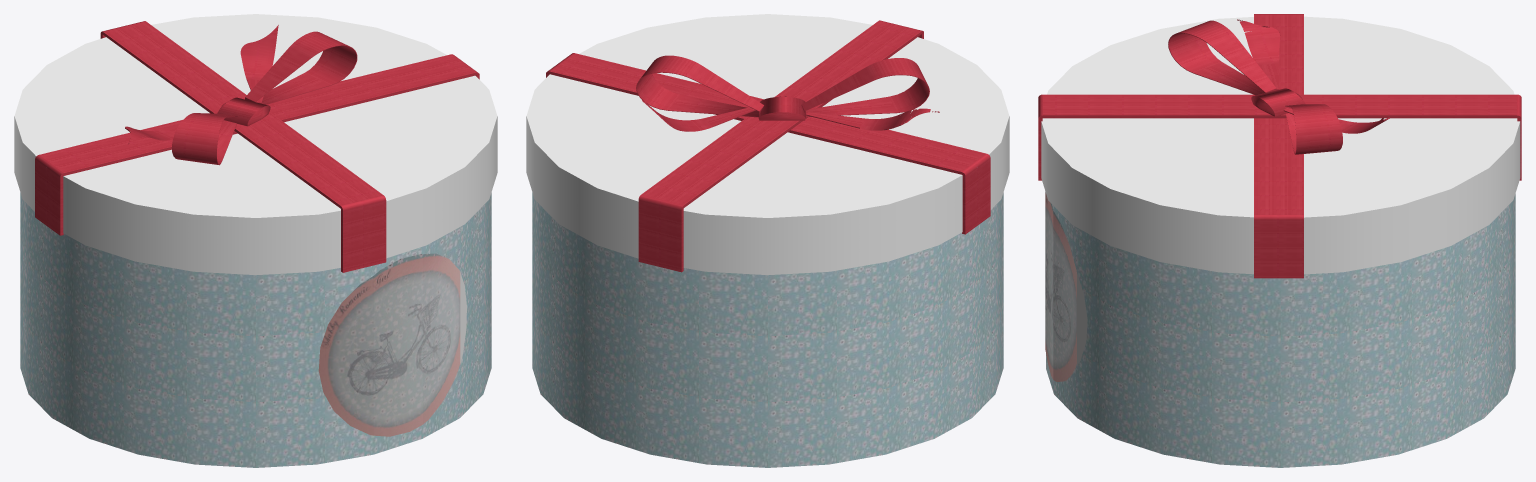
3 renders of one model, left to right at view 1: azimuth 30°, elevation 25°; view 2: azimuth 150°, elevation 25°; view 3: azimuth 270°, elevation 25°, orthographic.
Parts seen in each view (by area): view 1: Mesh1 Group2 Group1 Groupe_25_1 Model, Mesh5 Group6 Group1 Groupe_25_1 Model, Mesh2 Group3 Group1 Groupe_25_1 Model, Mesh4 Group5 Group1 Groupe_25_1 Model, Mesh3 Group4 Group1 Groupe_25_1 Model, Mesh6 Group7 noeud_2_1 Group1 Groupe_25_1 Model, Mesh8 Group9 noeud_2_1 Group1 Groupe_25_1 Model, Mesh20 Group11 noeud_2_1 Group1 Groupe_25_1 Model, Mesh7 Group8 noeud_2_1 Group1 Groupe_25_1 Model; view 2: Mesh5 Group6 Group1 Groupe_25_1 Model, Mesh1 Group2 Group1 Groupe_25_1 Model, Mesh4 Group5 Group1 Groupe_25_1 Model, Mesh3 Group4 Group1 Groupe_25_1 Model, Mesh6 Group7 noeud_2_1 Group1 Groupe_25_1 Model, Mesh8 Group9 noeud_2_1 Group1 Groupe_25_1 Model, Mesh7 Group8 noeud_2_1 Group1 Groupe_25_1 Model, Mesh20 Group11 noeud_2_1 Group1 Groupe_25_1 Model, Mesh11 Group10 noeud_2_1 Group1 Groupe_25_1 Model; view 3: Mesh5 Group6 Group1 Groupe_25_1 Model, Mesh1 Group2 Group1 Groupe_25_1 Model, Mesh4 Group5 Group1 Groupe_25_1 Model, Mesh3 Group4 Group1 Groupe_25_1 Model, Mesh2 Group3 Group1 Groupe_25_1 Model, Mesh8 Group9 noeud_2_1 Group1 Groupe_25_1 Model, Mesh6 Group7 noeud_2_1 Group1 Groupe_25_1 Model, Mesh11 Group10 noeud_2_1 Group1 Groupe_25_1 Model, Mesh7 Group8 noeud_2_1 Group1 Groupe_25_1 Model.
Boxes of the visible parts, box(x1,y1,x2,y2) form: Mesh1 Group2 Group1 Groupe_25_1 Model: box(14, 14, 497, 275); Mesh5 Group6 Group1 Groupe_25_1 Model: box(20, 192, 491, 467); Mesh2 Group3 Group1 Groupe_25_1 Model: box(318, 253, 466, 436); Mesh4 Group5 Group1 Groupe_25_1 Model: box(100, 21, 386, 272); Mesh3 Group4 Group1 Groupe_25_1 Model: box(35, 54, 479, 235); Mesh6 Group7 noeud_2_1 Group1 Groupe_25_1 Model: box(245, 31, 357, 104); Mesh8 Group9 noeud_2_1 Group1 Groupe_25_1 Model: box(172, 113, 237, 165); Mesh20 Group11 noeud_2_1 Group1 Groupe_25_1 Model: box(240, 25, 278, 103); Mesh7 Group8 noeud_2_1 Group1 Groupe_25_1 Model: box(217, 97, 270, 126); Mesh5 Group6 Group1 Groupe_25_1 Model: box(532, 192, 1003, 467); Mesh1 Group2 Group1 Groupe_25_1 Model: box(526, 14, 1009, 275); Mesh4 Group5 Group1 Groupe_25_1 Model: box(638, 20, 923, 272); Mesh3 Group4 Group1 Groupe_25_1 Model: box(546, 53, 990, 234); Mesh6 Group7 noeud_2_1 Group1 Groupe_25_1 Model: box(636, 55, 764, 117); Mesh8 Group9 noeud_2_1 Group1 Groupe_25_1 Model: box(801, 58, 929, 116); Mesh7 Group8 noeud_2_1 Group1 Groupe_25_1 Model: box(758, 96, 805, 120); Mesh20 Group11 noeud_2_1 Group1 Groupe_25_1 Model: box(642, 100, 755, 131); Mesh11 Group10 noeud_2_1 Group1 Groupe_25_1 Model: box(806, 111, 911, 130); Mesh5 Group6 Group1 Groupe_25_1 Model: box(1046, 194, 1515, 467); Mesh1 Group2 Group1 Groupe_25_1 Model: box(1041, 16, 1520, 274); Mesh4 Group5 Group1 Groupe_25_1 Model: box(1038, 94, 1521, 180); Mesh3 Group4 Group1 Groupe_25_1 Model: box(1254, 14, 1303, 278); Mesh2 Group3 Group1 Groupe_25_1 Model: box(1045, 192, 1087, 381); Mesh8 Group9 noeud_2_1 Group1 Groupe_25_1 Model: box(1168, 20, 1276, 95); Mesh6 Group7 noeud_2_1 Group1 Groupe_25_1 Model: box(1285, 104, 1342, 154); Mesh11 Group10 noeud_2_1 Group1 Groupe_25_1 Model: box(1245, 34, 1279, 89); Mesh7 Group8 noeud_2_1 Group1 Groupe_25_1 Model: box(1251, 88, 1305, 116).
Size of the model in its own units: 15.38 by 10.39 by 15.39.
Materials: 4 (3 with a texture image).
